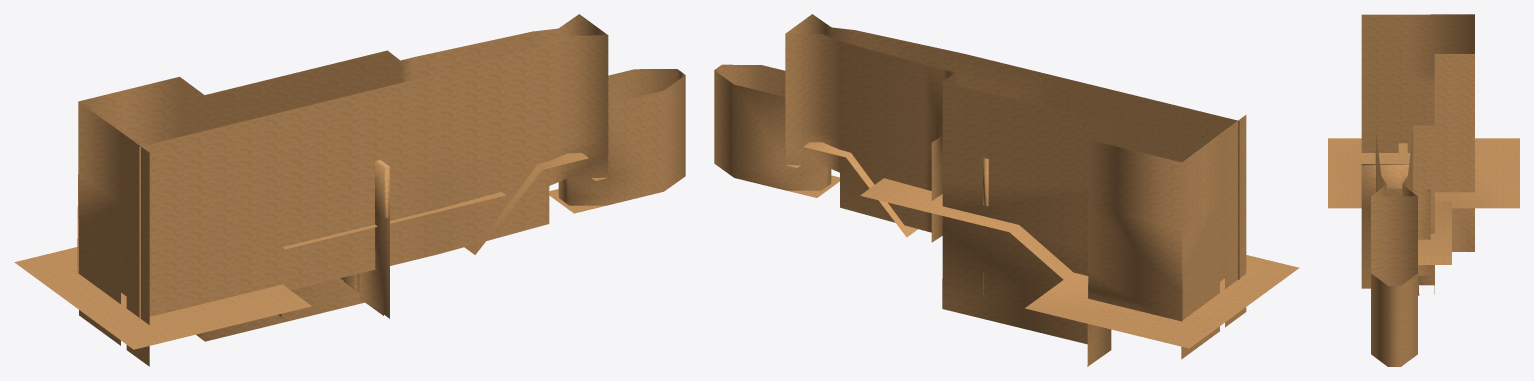
Rendered from nivelAIRE.fbx.
3 views of the same model, side by side, from view 1: azimuth 30°, elevation 25°; view 2: azimuth 150°, elevation 25°; view 3: azimuth 270°, elevation 25° (orthographic). The views are drawn at different scales.
Parts seen in each view (by area): view 1: mine.001, Plane.001; view 2: mine.001, Plane.001; view 3: mine.001, Plane.001.
Part boxes in pixels (x1,y1,x2,y2): mine.001: (77, 14, 685, 366); Plane.001: (14, 153, 684, 349); mine.001: (714, 14, 1246, 366); Plane.001: (787, 142, 1299, 348); mine.001: (1361, 14, 1474, 366); Plane.001: (1328, 138, 1519, 366).
Size of the model in its own units: 29722 by 11888 by 10446.
